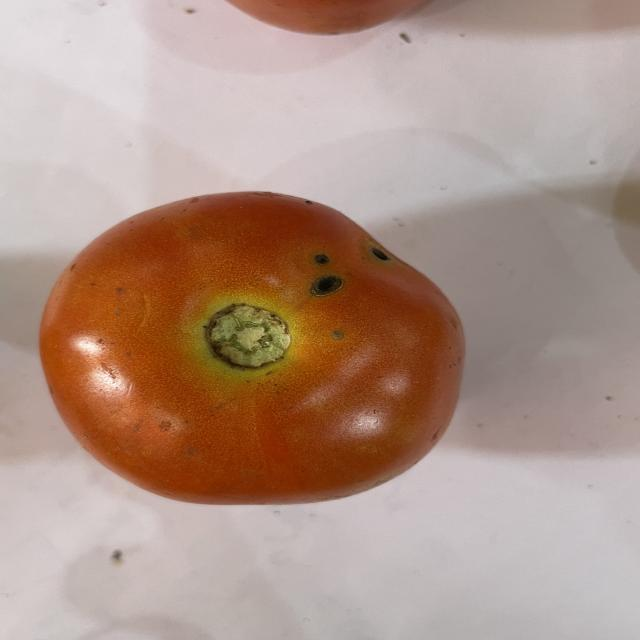fruitworm_bore: (304, 250, 344, 305), (367, 237, 399, 269)
